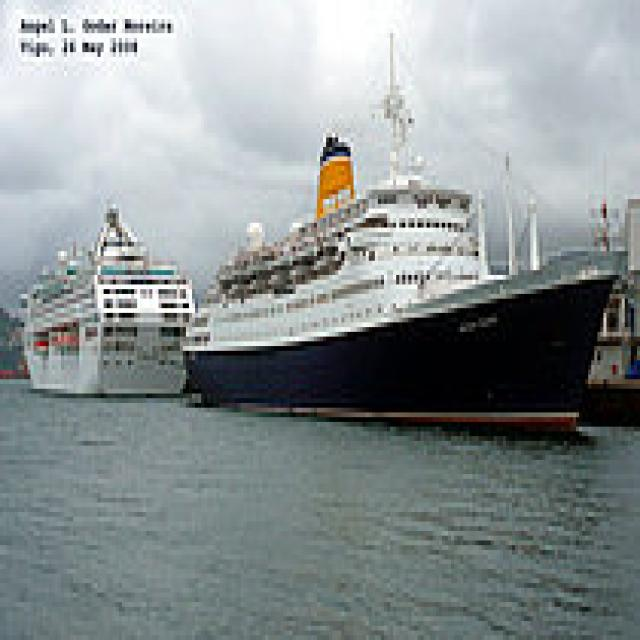Cruise: (176, 29, 622, 432), (12, 194, 192, 398)
